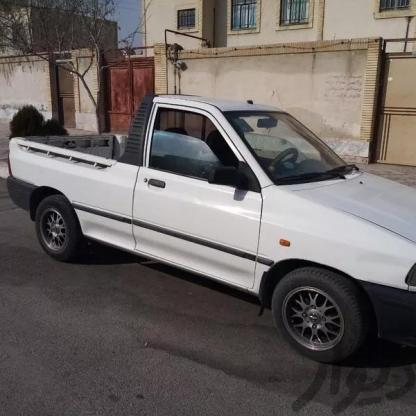Car: (0, 93, 411, 367)
